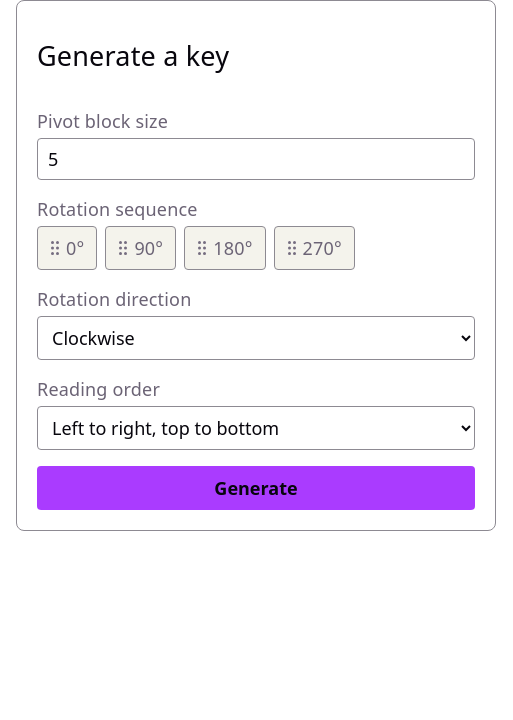
Test case: KeyGeneratorForm › provides visual feedback after a successful clipboard copy
Submit the form
(page scrolled)
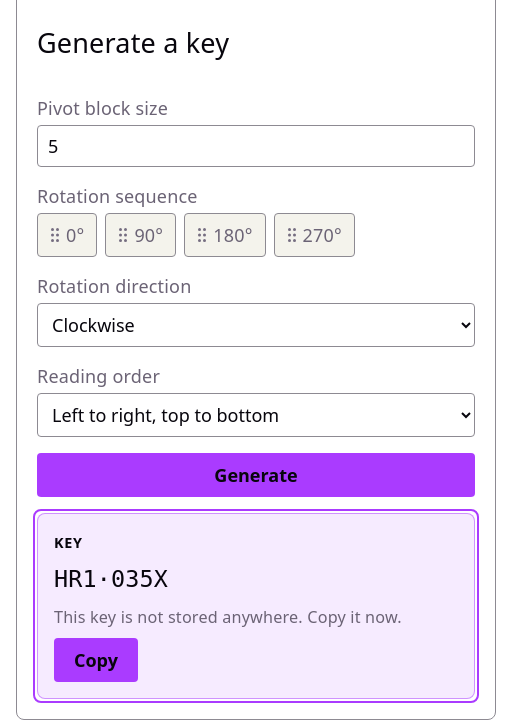
Click the button "Copy": coordinates (96, 660) 54,638 -> 138,682
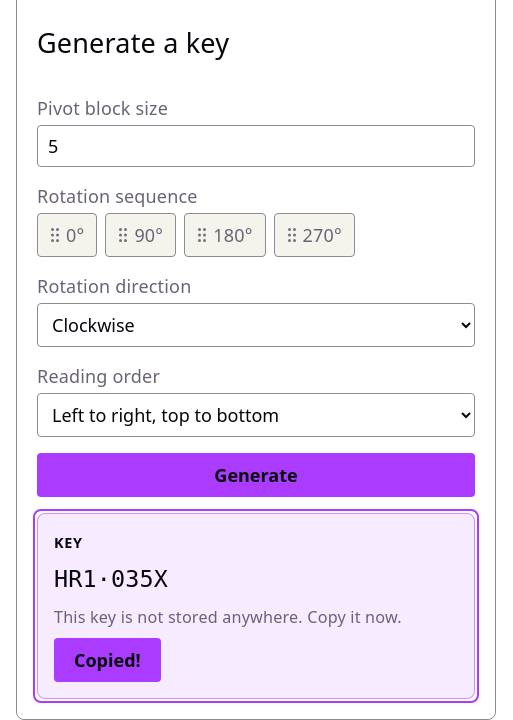
Expected: the button "Copied!" is shown, 54,638 -> 161,682
